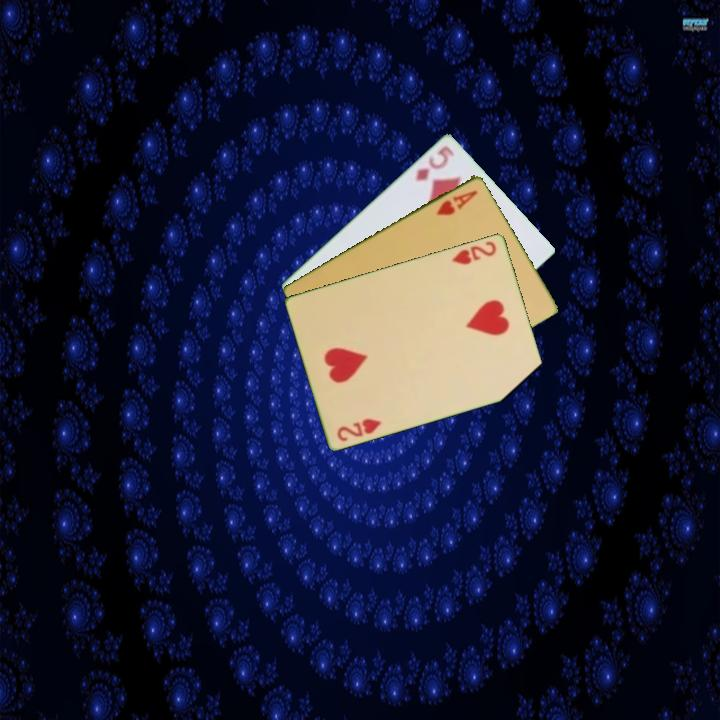2h: (448, 237, 499, 267), (333, 415, 384, 444)
5d: (412, 142, 457, 184)
Ah: (433, 186, 481, 218)
